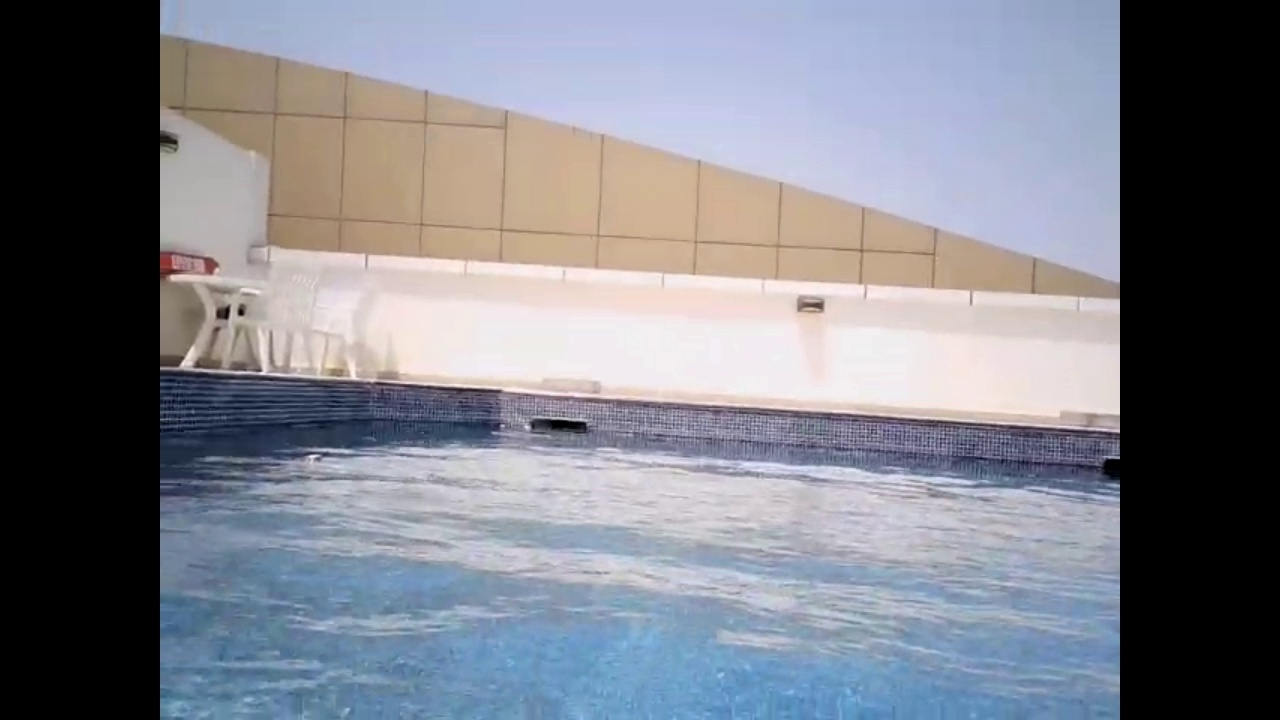debris: (297, 448, 326, 473)
